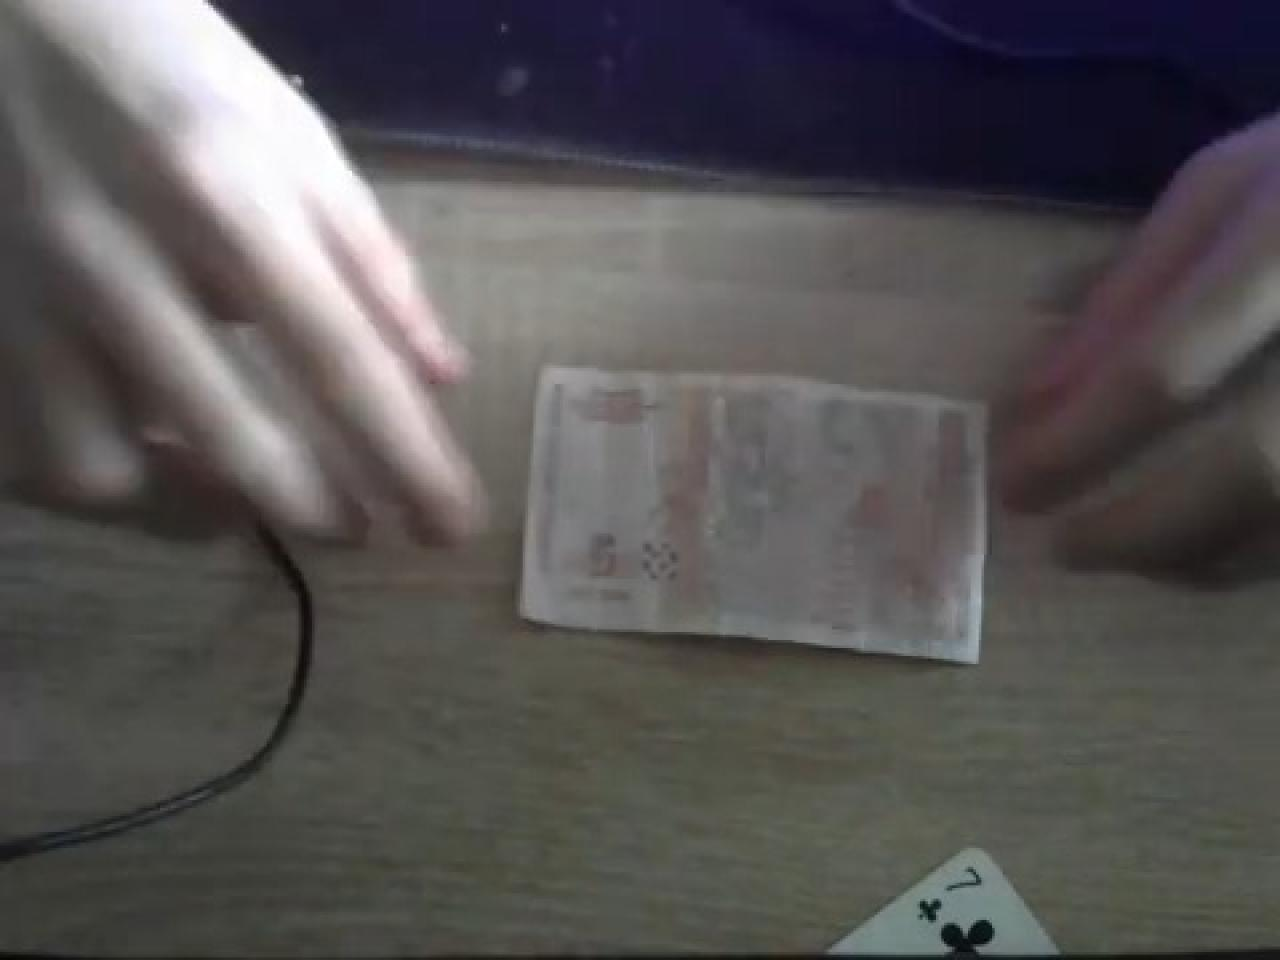5leva: (520, 365, 992, 670)
